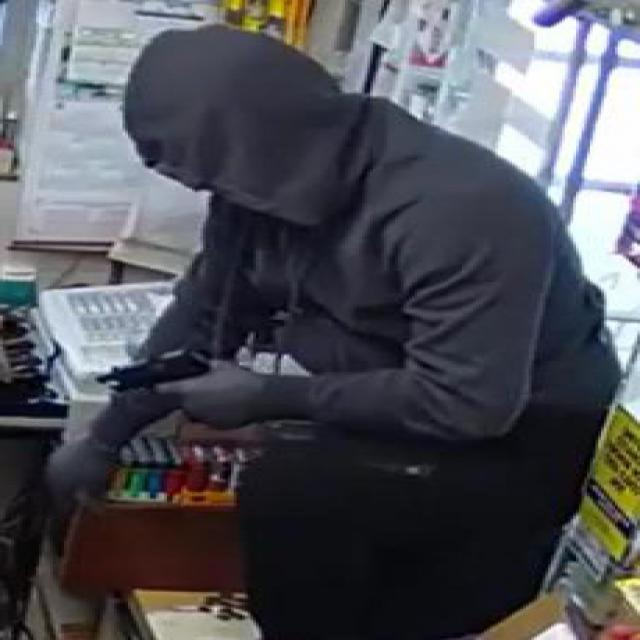weapon: (91, 348, 212, 402)
